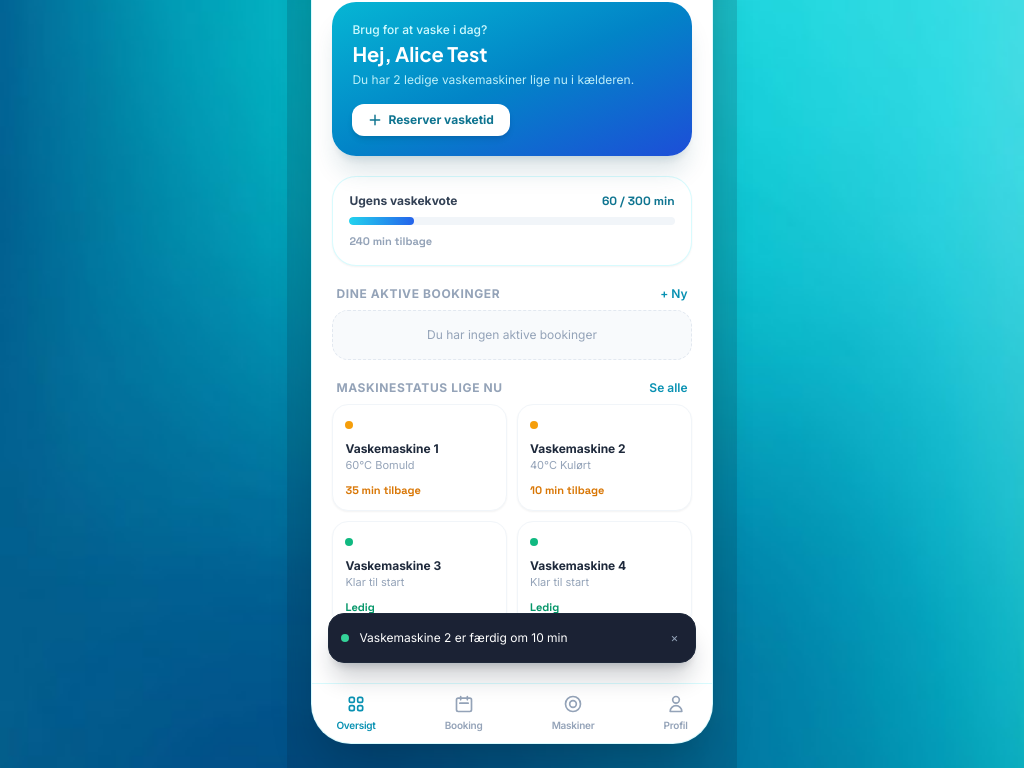
allows paginating through 30 days in booking calendar and enforces 30 days on date picker
The width and height of the screenshot is (1024, 768).
(page scrolled)
Click the button "Booking". click: x=464, y=714
box: [445,694,482,733]
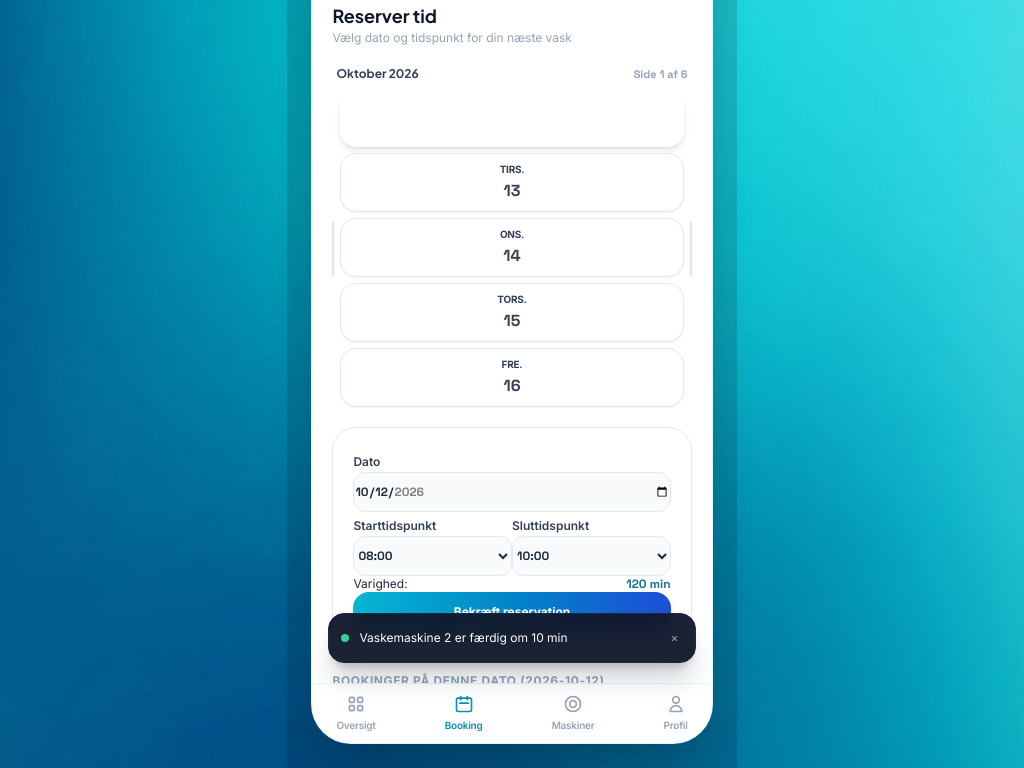
Result: the text "Side 1 af 6" is shown at [634,66,688,82]
Result: the button named "forrige dage" is disabled at [332,220,334,276]
Result: the button named "næste dage" is enabled
Click the button named "næste dage". click: x=691, y=248
box: [690,220,692,276]
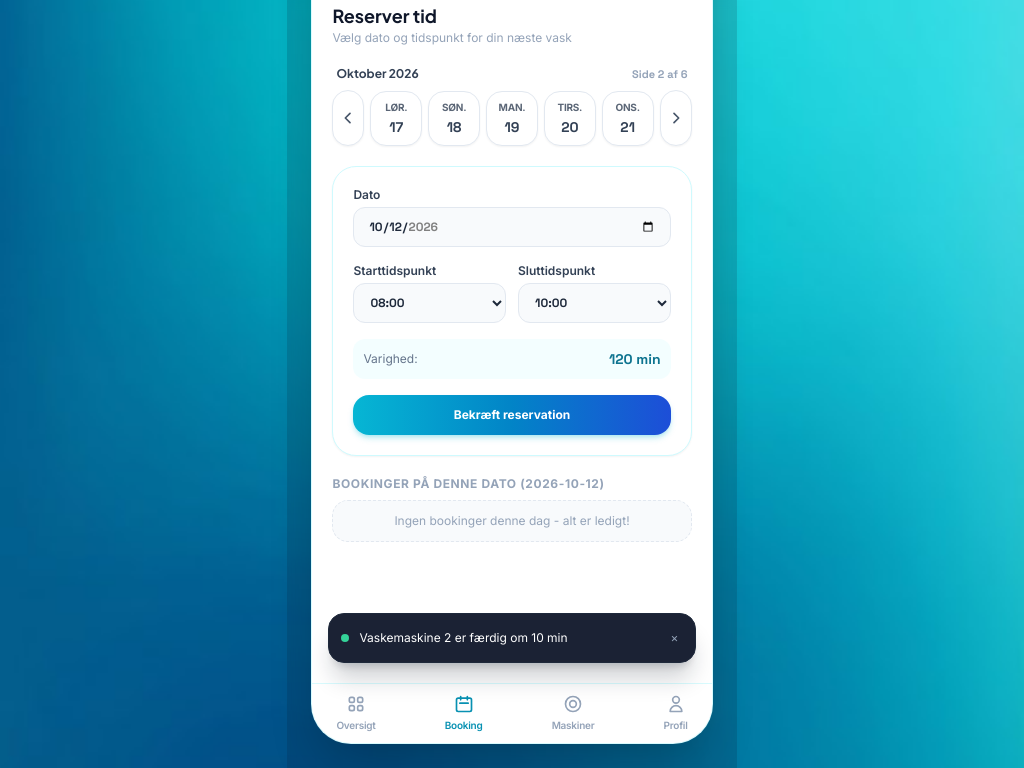
Result: the text "Side 2 af 6" is shown at [632,66,688,82]
Result: the button named "forrige dage" is enabled at [332,90,364,146]
